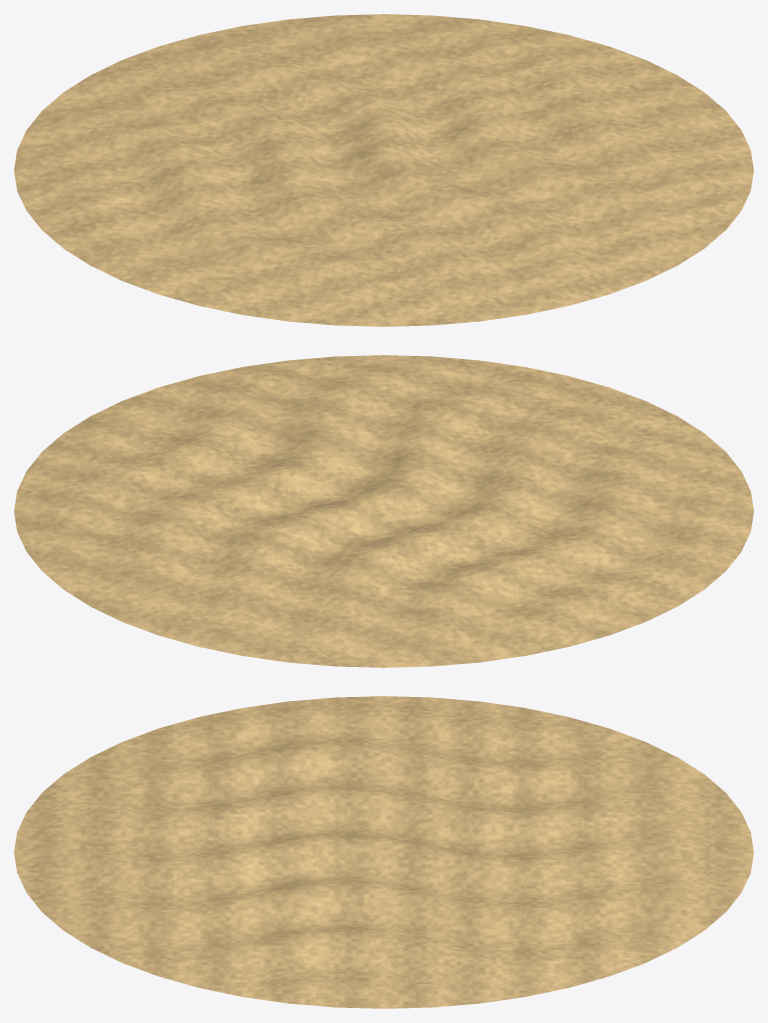
Rendered from SM_Desert_SandRipple_A.glb.
The picture shows the model from 3 angles, top to bottom: view 1: azimuth 30°, elevation 25°; view 2: azimuth 150°, elevation 25°; view 3: azimuth 270°, elevation 25°; orthographic projection.
Visible parts, largest first — view 1: SM_Desert_SandRipple_A; view 2: SM_Desert_SandRipple_A; view 3: SM_Desert_SandRipple_A.
Part boxes in pixels (x1=…): SM_Desert_SandRipple_A: x1=14, y1=14, x2=753, y2=326; SM_Desert_SandRipple_A: x1=14, y1=355, x2=753, y2=667; SM_Desert_SandRipple_A: x1=14, y1=696, x2=753, y2=1008.
Size of the model in its own units: 3 by 0.055 by 3.
Materials: 1 (1 with a texture image).
